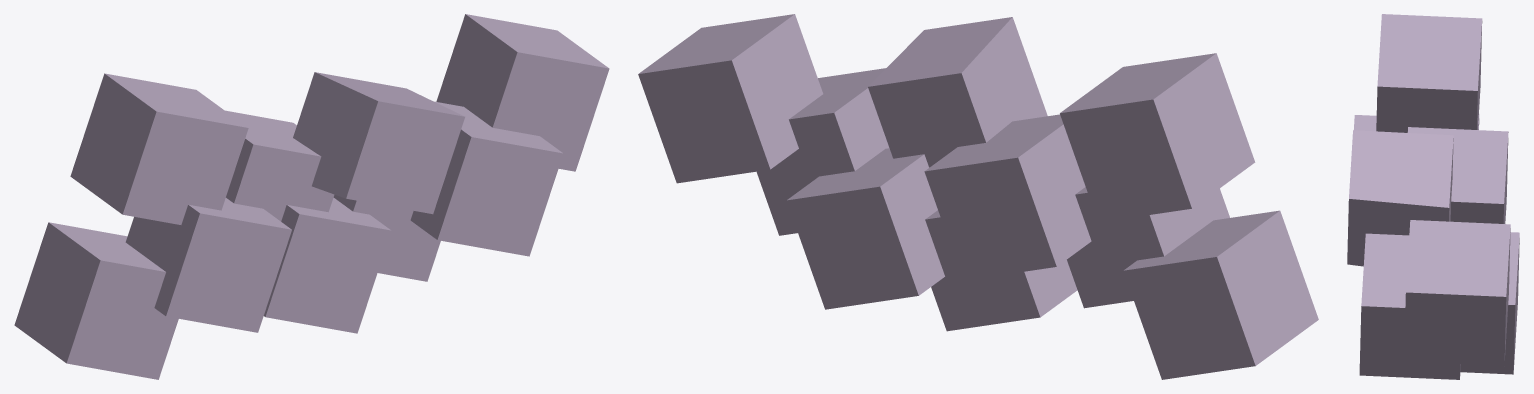
The model's file is loading.fbx.
3 renders of one model, left to right at view 1: azimuth 30°, elevation 25°; view 2: azimuth 150°, elevation 25°; view 3: azimuth 270°, elevation 25°, orthographic. The views are drawn at different scales.
Parts seen in each view (by area): view 1: loading_002, loading_001, loading_006, loading_009, loading_003, loading_008, loading_005, loading_004, loading_007; view 2: loading_002, loading_001, loading_009, loading_004, loading_007, loading_006, loading_008, loading_003, loading_005; view 3: loading_009, loading_002, loading_006, loading_008, loading_004, loading_007, loading_003.
Boxes of the visible parts, <box> form: loading_002: <box>70,73,248,224</box>; loading_001: <box>14,222,178,379</box>; loading_006: <box>293,72,464,214</box>; loading_009: <box>436,14,609,171</box>; loading_003: <box>125,198,291,332</box>; loading_008: <box>410,101,563,256</box>; loading_005: <box>264,197,391,333</box>; loading_004: <box>225,110,334,221</box>; loading_007: <box>333,194,440,281</box>; loading_002: <box>1060,53,1255,222</box>; loading_001: <box>1123,210,1318,379</box>; loading_009: <box>638,14,823,183</box>; loading_004: <box>924,114,1091,280</box>; loading_007: <box>786,148,944,309</box>; loading_006: <box>868,17,1047,167</box>; loading_008: <box>756,68,889,235</box>; loading_003: <box>1067,187,1229,308</box>; loading_005: <box>925,210,1077,331</box>; loading_009: <box>1404,220,1510,366</box>; loading_002: <box>1376,14,1482,132</box>; loading_006: <box>1347,130,1453,266</box>; loading_008: <box>1359,233,1460,379</box>; loading_004: <box>1407,127,1508,223</box>; loading_007: <box>1460,232,1519,374</box>; loading_003: <box>1354,115,1376,131</box>.
Bounding box in the file's own units: 11.68 × 5.36 × 3.43.
